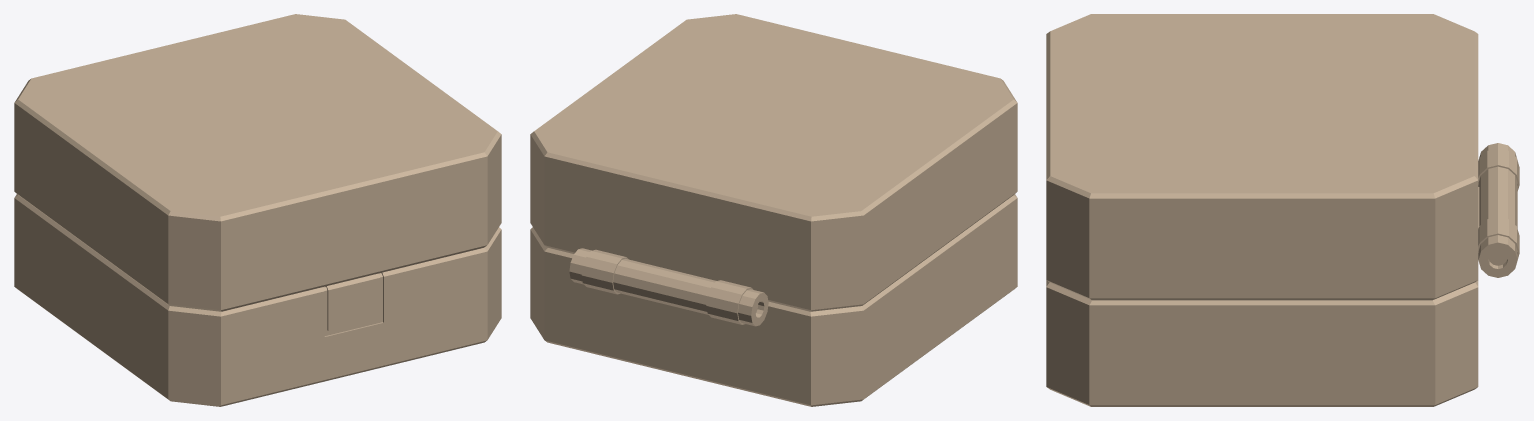
The model's file is toybox.glb.
3 views of the same model, side by side, from view 1: azimuth 30°, elevation 25°; view 2: azimuth 150°, elevation 25°; view 3: azimuth 270°, elevation 25° (orthographic). The views are drawn at different scales.
Visible parts, largest first — view 1: shell_l, shell_r; view 2: shell_l, shell_r, hinge, shell_connect_r; view 3: shell_l, shell_r, hinge, shell_connect_r.
Boxes of the visible parts, box(x1,y1,x2,y2) form: shell_l: box(14, 14, 501, 311); shell_r: box(14, 194, 501, 406); shell_l: box(530, 14, 1017, 311); shell_r: box(530, 194, 1017, 406); hinge: box(569, 248, 768, 326); shell_connect_r: box(581, 249, 753, 324); shell_l: box(1046, 14, 1478, 300); shell_r: box(1046, 280, 1478, 406); hinge: box(1478, 143, 1517, 277); shell_connect_r: box(1478, 148, 1519, 259).
Size of the model in its own units: 1.1 by 0.6 by 1.21.
